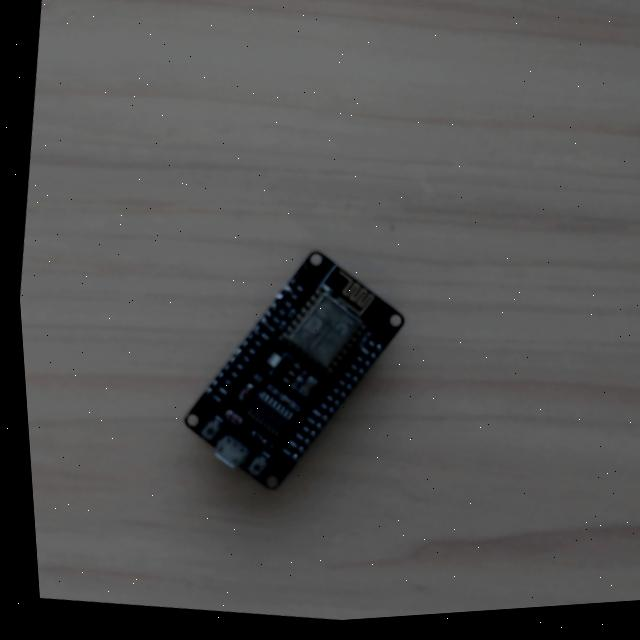ESP8266-NodeMCU: (176, 248, 407, 499)
